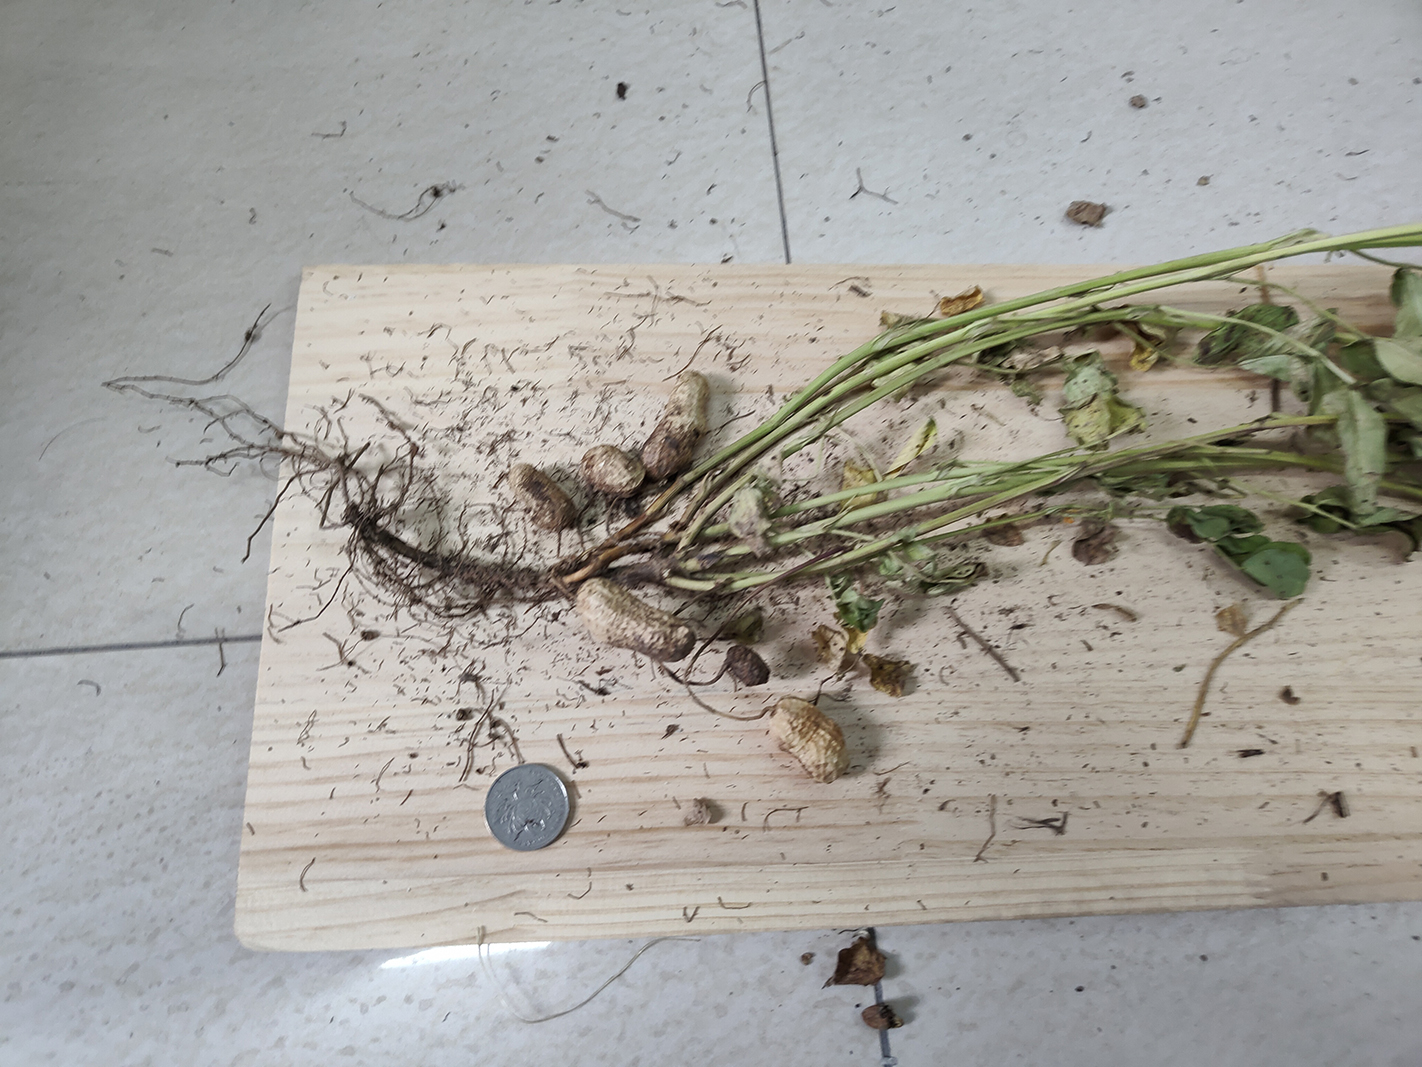h: (574, 579, 696, 662), (770, 700, 846, 785)
l: (642, 367, 712, 476), (510, 466, 576, 532), (580, 446, 643, 497), (726, 646, 770, 687)
